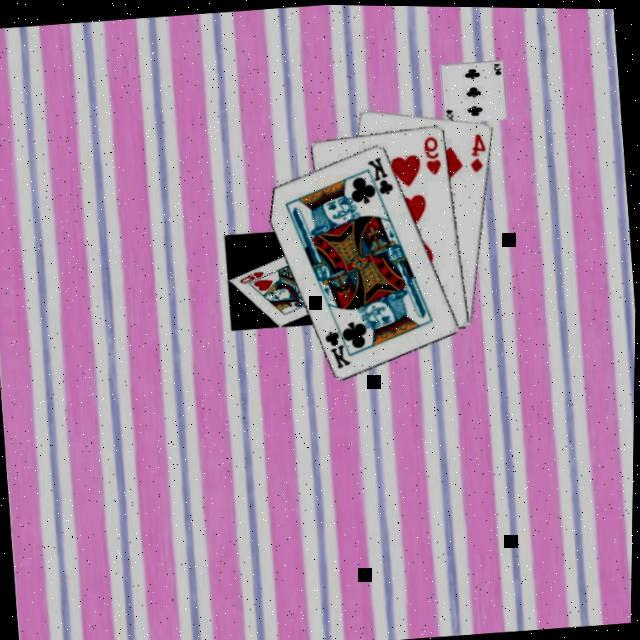4D: (466, 126, 491, 171)
9H: (422, 128, 447, 174)
KC: (321, 315, 358, 368), (363, 149, 398, 201)
